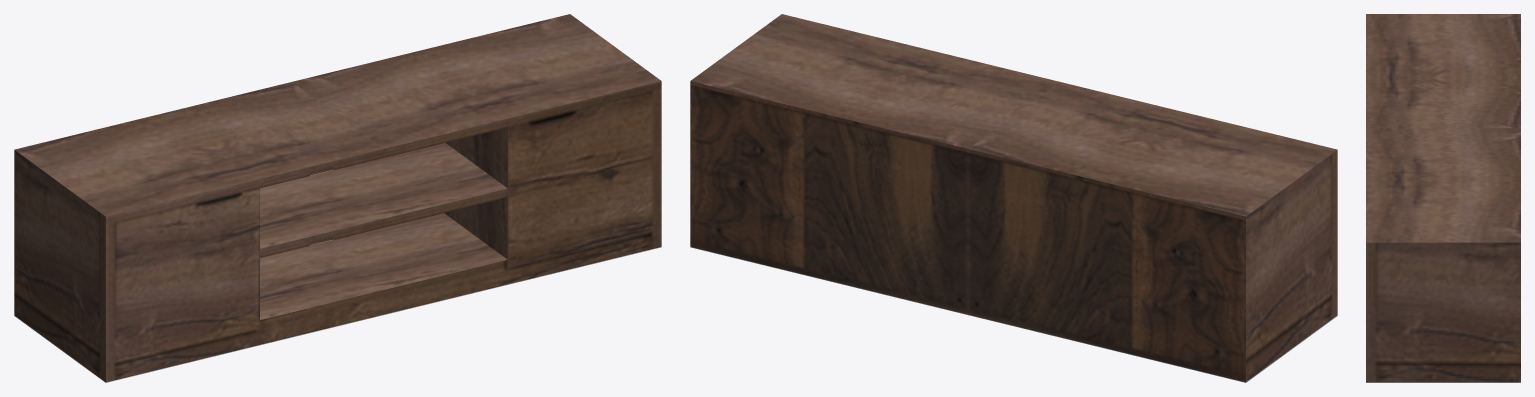
Rendered from TVStand.fbx.
3 views of the same model, side by side, from view 1: azimuth 30°, elevation 25°; view 2: azimuth 150°, elevation 25°; view 3: azimuth 270°, elevation 25° (orthographic). The views are drawn at different scales.
Visible parts, largest first — view 1: TVStand; view 2: TVStand; view 3: TVStand.
Boxes of the visible parts, left/top/right/bottom form: TVStand: left=14, top=14, right=661, bottom=382; TVStand: left=690, top=14, right=1337, bottom=382; TVStand: left=1366, top=14, right=1520, bottom=382.
Bounding box in the file's own units: 193 × 55 × 55.
1 material, 1 textured.
